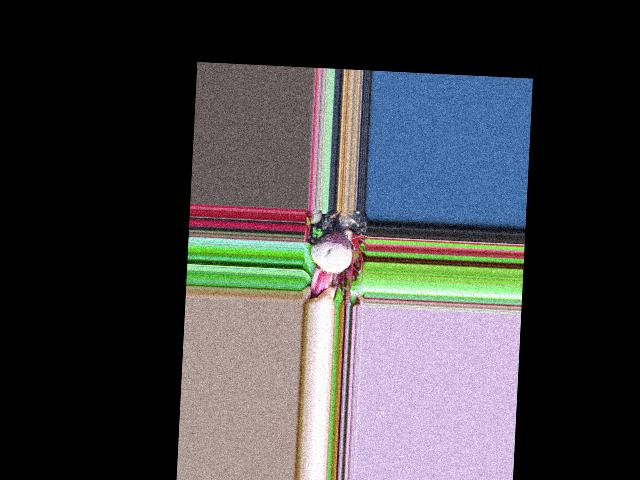beet: (309, 208, 354, 300)
